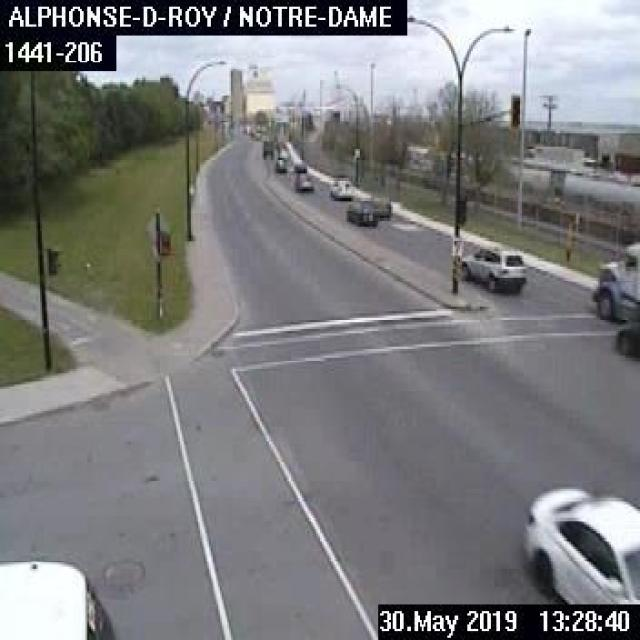vehicle: (518, 482, 638, 602), (0, 556, 115, 638), (586, 238, 638, 320), (458, 242, 527, 294), (613, 319, 638, 360), (343, 198, 376, 224), (363, 193, 391, 219), (328, 176, 352, 199), (293, 173, 311, 191), (290, 158, 308, 175), (273, 156, 286, 173)
